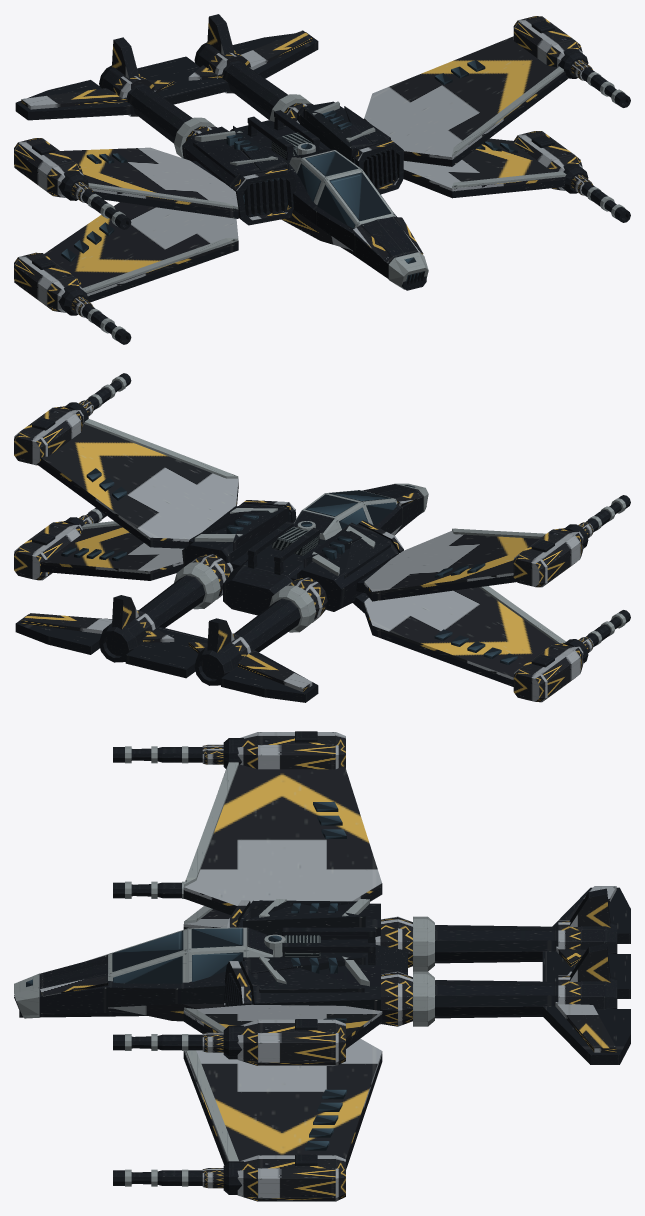
The model's file is scrapper-alliance.glb.
3 renders of one model, top to bottom at view 1: azimuth 30°, elevation 25°; view 2: azimuth 150°, elevation 25°; view 3: azimuth 270°, elevation 25°, orthographic. The views are drawn at different scales.
Parts seen in each view (by area): view 1: Scrapper · Revised pirate fighter; view 2: Scrapper · Revised pirate fighter; view 3: Scrapper · Revised pirate fighter.
Part boxes in pixels (bbox=[...]): Scrapper · Revised pirate fighter: bbox=[14, 14, 630, 344]; Scrapper · Revised pirate fighter: bbox=[14, 373, 630, 702]; Scrapper · Revised pirate fighter: bbox=[14, 731, 630, 1201].
Size of the model in its own units: 2.02 by 0.5285 by 1.72.
1 material, 1 textured.
